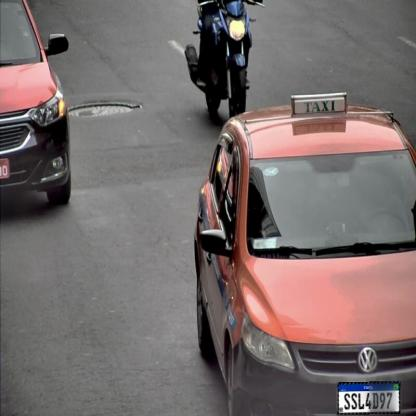PlacaM: (338, 381, 400, 415)
